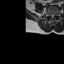CCS_stenosis: (51, 13, 53, 20)
LFS_severe_stenosis: (55, 12, 57, 17)
LLS_stenosis: (53, 13, 55, 18)
RFS_severe_stenosis: (49, 12, 50, 17)
RLS_stenosis: (50, 13, 51, 17)
